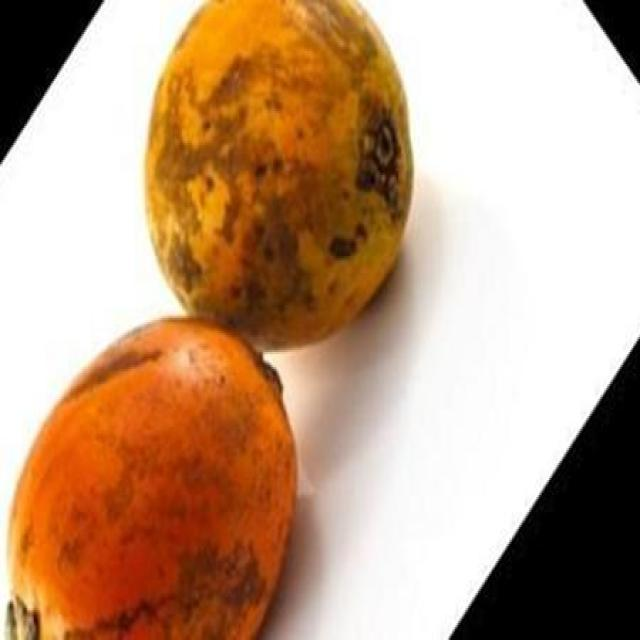good: (145, 0, 414, 356), (7, 318, 299, 638)
